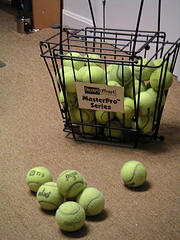tennis ball: (55, 199, 86, 232), (120, 158, 149, 192), (77, 187, 106, 217), (36, 180, 63, 209), (57, 168, 83, 198), (27, 165, 52, 194), (150, 68, 173, 91), (79, 66, 106, 85), (110, 62, 131, 85), (136, 91, 155, 116), (135, 58, 155, 81), (59, 86, 78, 108), (126, 77, 144, 99), (132, 114, 154, 132), (80, 119, 99, 139), (119, 98, 137, 119), (64, 50, 83, 69), (75, 103, 93, 123), (58, 64, 75, 85), (65, 70, 82, 90), (83, 53, 102, 69), (105, 122, 122, 137), (96, 110, 113, 123), (155, 57, 175, 68), (105, 80, 123, 86)
